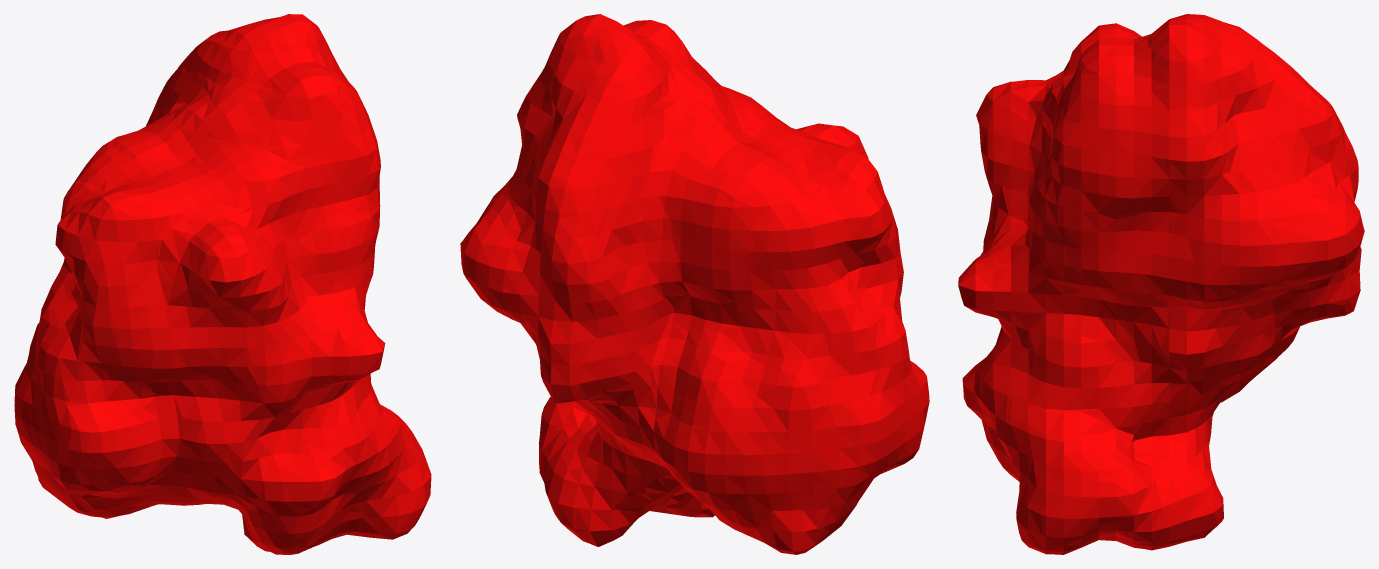
File: clsA_coarse.dae
The picture shows the model from 3 angles, left to right: view 1: azimuth 30°, elevation 25°; view 2: azimuth 150°, elevation 25°; view 3: azimuth 270°, elevation 25°; orthographic projection. The views are drawn at different scales.
Parts seen in each view (by area): view 1: clsA; view 2: clsA; view 3: clsA.
Boxes of the visible parts, x1,y1,x2,y2 form: clsA: (14, 14, 431, 554); clsA: (460, 14, 929, 554); clsA: (958, 14, 1364, 554).
Bounding box in the file's own units: 57.66 × 76.16 × 54.23.
